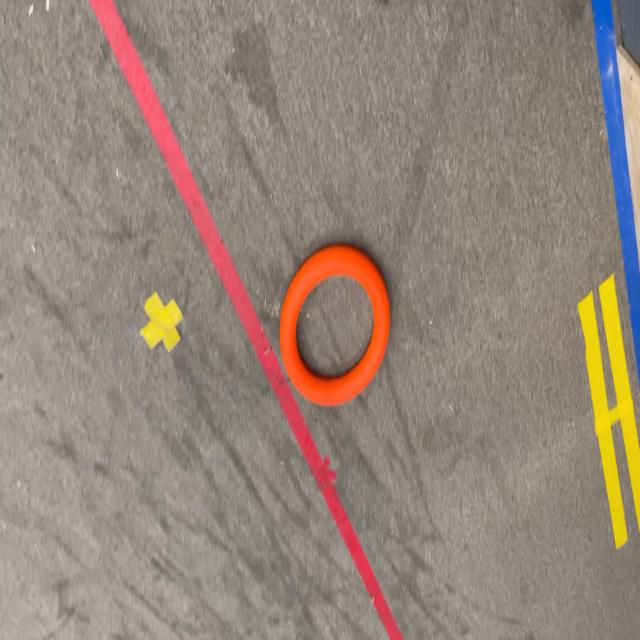note: (278, 238, 392, 407)
